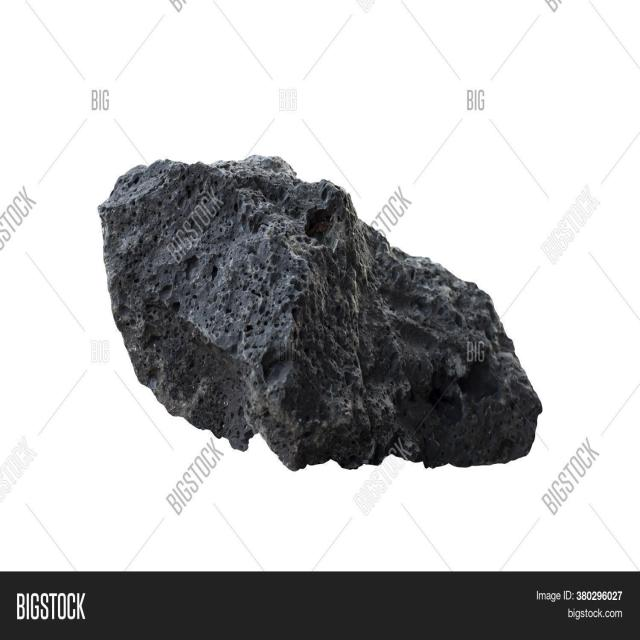Igneous: (37, 144, 560, 451)
